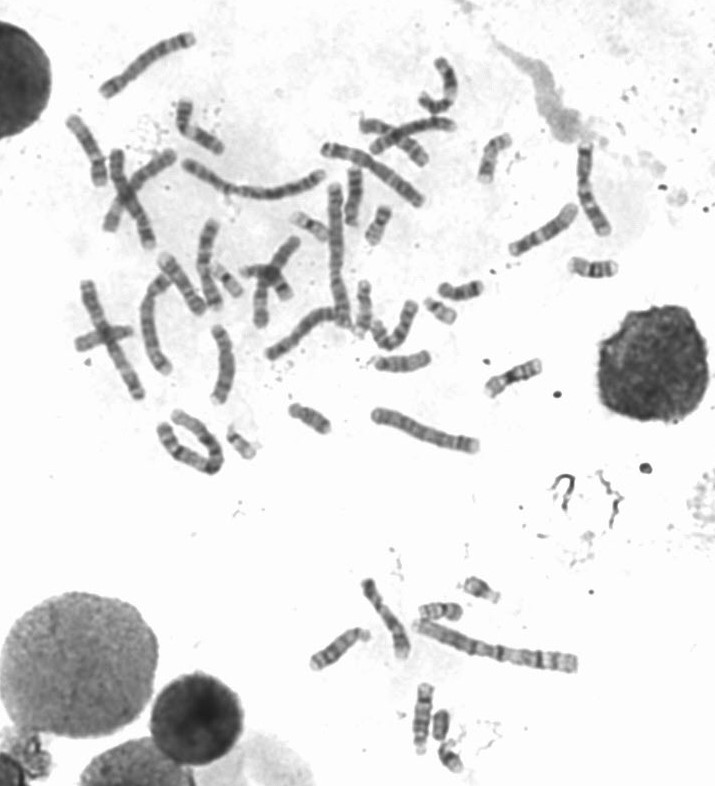chromosomes: (74, 274, 150, 406), (416, 620, 586, 679), (321, 134, 433, 214), (90, 29, 198, 103), (99, 147, 179, 238), (367, 403, 484, 461), (184, 156, 329, 199), (153, 405, 227, 482), (109, 148, 163, 253), (252, 234, 305, 333), (569, 135, 617, 244), (499, 198, 582, 261), (324, 180, 354, 347), (352, 113, 435, 173), (358, 578, 415, 663), (260, 304, 339, 365), (152, 246, 211, 322), (363, 114, 462, 154), (174, 97, 232, 165), (300, 625, 375, 677), (63, 114, 111, 191), (140, 273, 172, 382), (413, 50, 463, 118), (476, 359, 551, 403), (195, 214, 223, 317), (210, 318, 238, 414), (236, 261, 296, 305), (473, 129, 514, 188), (379, 297, 418, 359), (367, 345, 435, 378), (360, 199, 399, 255), (72, 322, 137, 355), (566, 251, 627, 286), (405, 681, 438, 745), (283, 402, 336, 441), (351, 277, 377, 345), (220, 423, 259, 467), (283, 209, 335, 242), (423, 292, 465, 331), (436, 276, 486, 305), (209, 263, 248, 300), (458, 576, 506, 606), (346, 164, 367, 230), (411, 603, 468, 624), (436, 744, 465, 782), (428, 710, 455, 746)
